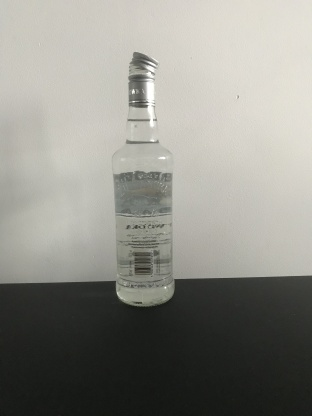nakretka: (126, 50, 159, 108)
